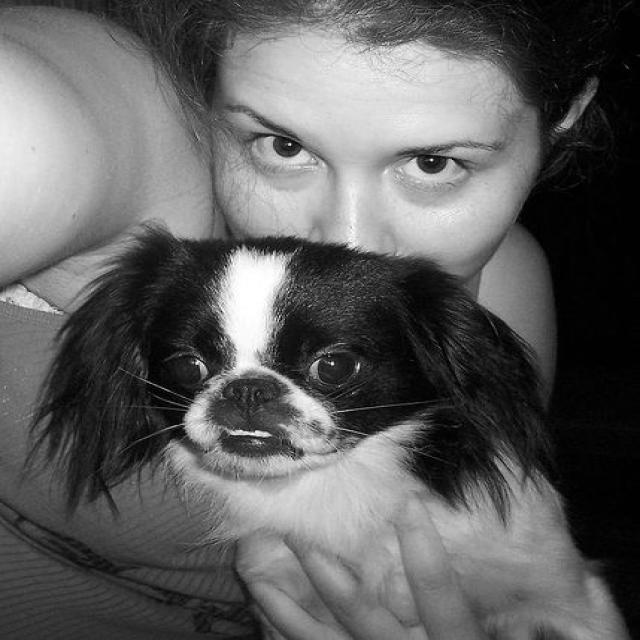dog-japanese_chin: (42, 232, 637, 637)
